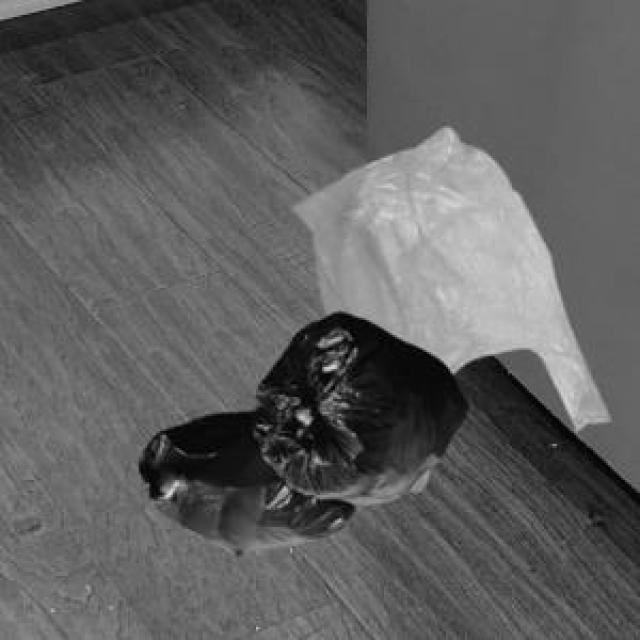miscellaneous trash: (134, 309, 465, 550)
